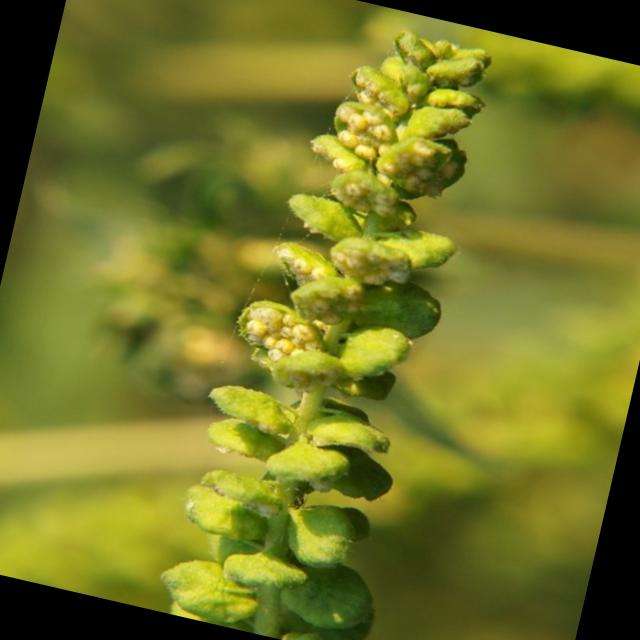ambrosia: (128, 0, 547, 640)
